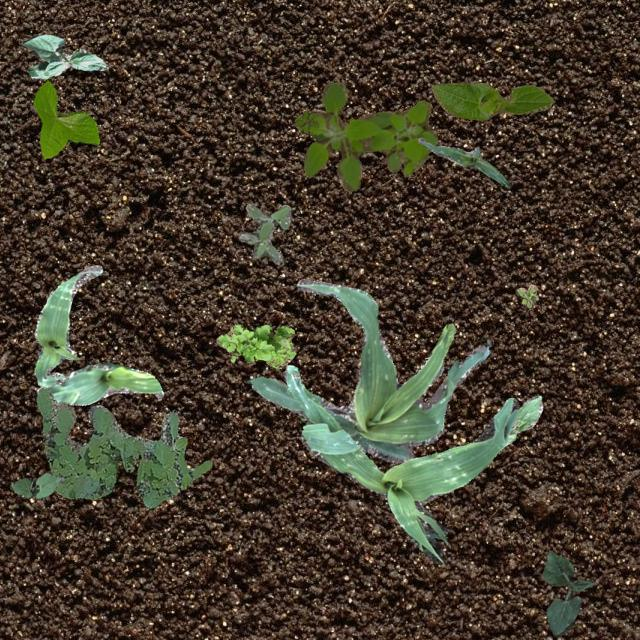crop: (280, 364, 518, 560), (248, 278, 488, 462), (32, 264, 102, 386), (42, 360, 162, 404), (32, 80, 98, 158), (429, 82, 554, 120), (416, 136, 509, 186), (542, 550, 594, 636), (22, 34, 108, 78), (504, 394, 542, 444), (10, 472, 62, 498)
weed: (36, 386, 210, 506), (294, 80, 436, 190), (216, 323, 294, 368), (237, 202, 290, 262), (294, 110, 318, 132), (516, 284, 538, 306)
